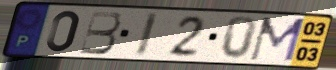0: (219, 15, 259, 61), (44, 9, 82, 54)
2: (166, 14, 208, 58)
B: (78, 10, 123, 56)
I: (134, 11, 161, 58)
M: (247, 16, 308, 63)
